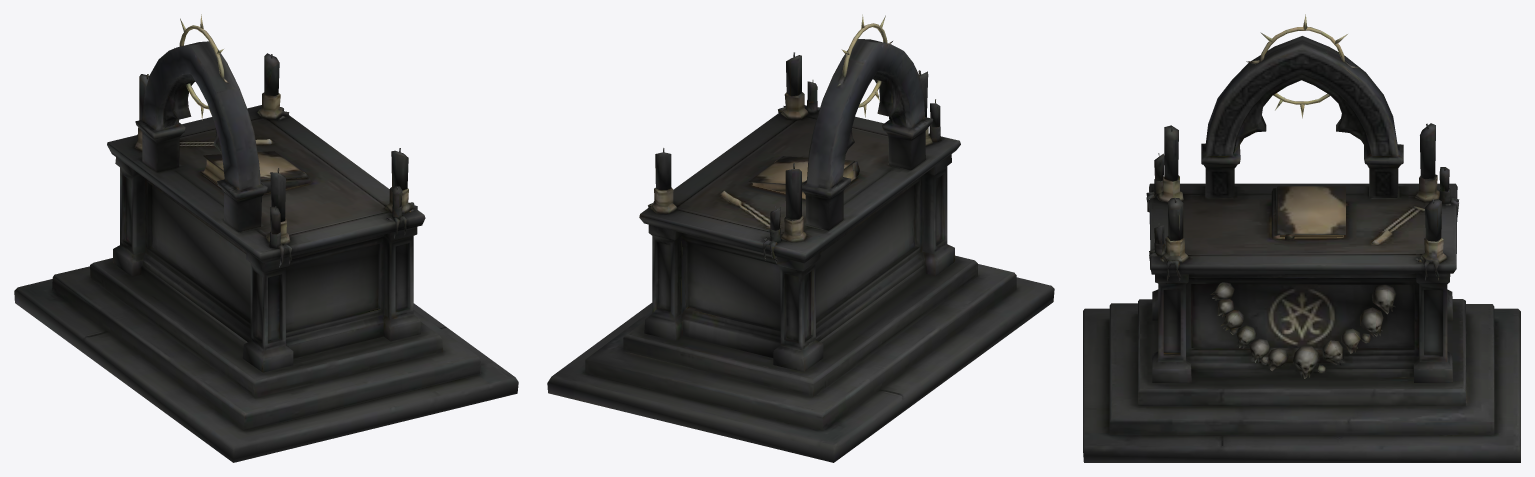
File: altar_ascension.glb
The picture shows the model from 3 angles, left to right: view 1: azimuth 30°, elevation 25°; view 2: azimuth 150°, elevation 25°; view 3: azimuth 270°, elevation 25°; orthographic projection.
Visible parts, largest first — view 1: tripo_node_e699d872-4307-489b-9442-df0058e32d30; view 2: tripo_node_e699d872-4307-489b-9442-df0058e32d30; view 3: tripo_node_e699d872-4307-489b-9442-df0058e32d30.
Boxes of the visible parts, bbox=[...] form: tripo_node_e699d872-4307-489b-9442-df0058e32d30: bbox=[14, 14, 518, 462]; tripo_node_e699d872-4307-489b-9442-df0058e32d30: bbox=[547, 14, 1054, 462]; tripo_node_e699d872-4307-489b-9442-df0058e32d30: bbox=[1083, 14, 1520, 462].
Size of the model in its own units: 0.7519 by 0.8769 by 0.998.
Materials: 1 (1 with a texture image).
